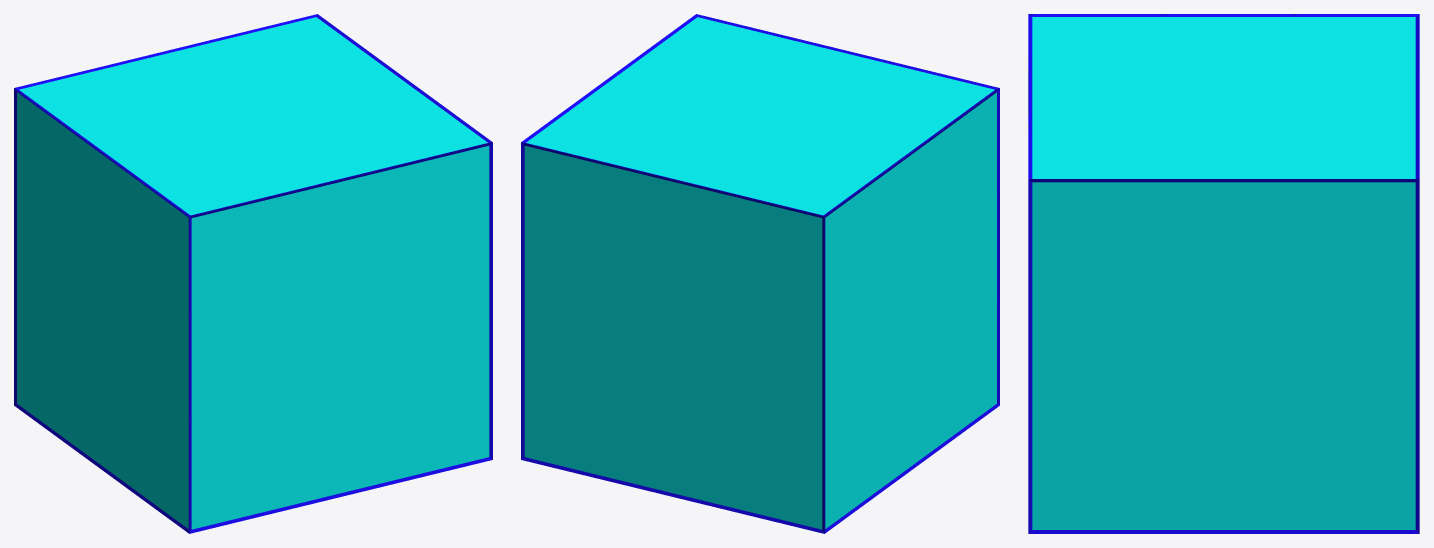
The model's file is mainCube.glb.
3 renders of one model, left to right at view 1: azimuth 30°, elevation 25°; view 2: azimuth 150°, elevation 25°; view 3: azimuth 270°, elevation 25°, orthographic. The views are drawn at different scales.
Visible parts, largest first — view 1: mainCube, wireframe; view 2: mainCube, wireframe; view 3: mainCube, wireframe.
Part boxes in pixels (left/top/right/bottom): mainCube: left=17, top=17, right=489, bottom=529; wireframe: left=14, top=14, right=492, bottom=533; mainCube: left=524, top=17, right=996, bottom=529; wireframe: left=521, top=14, right=999, bottom=533; mainCube: left=1032, top=17, right=1415, bottom=529; wireframe: left=1028, top=14, right=1419, bottom=533.
Size of the model in its own units: 1.61 by 1.61 by 1.61.
